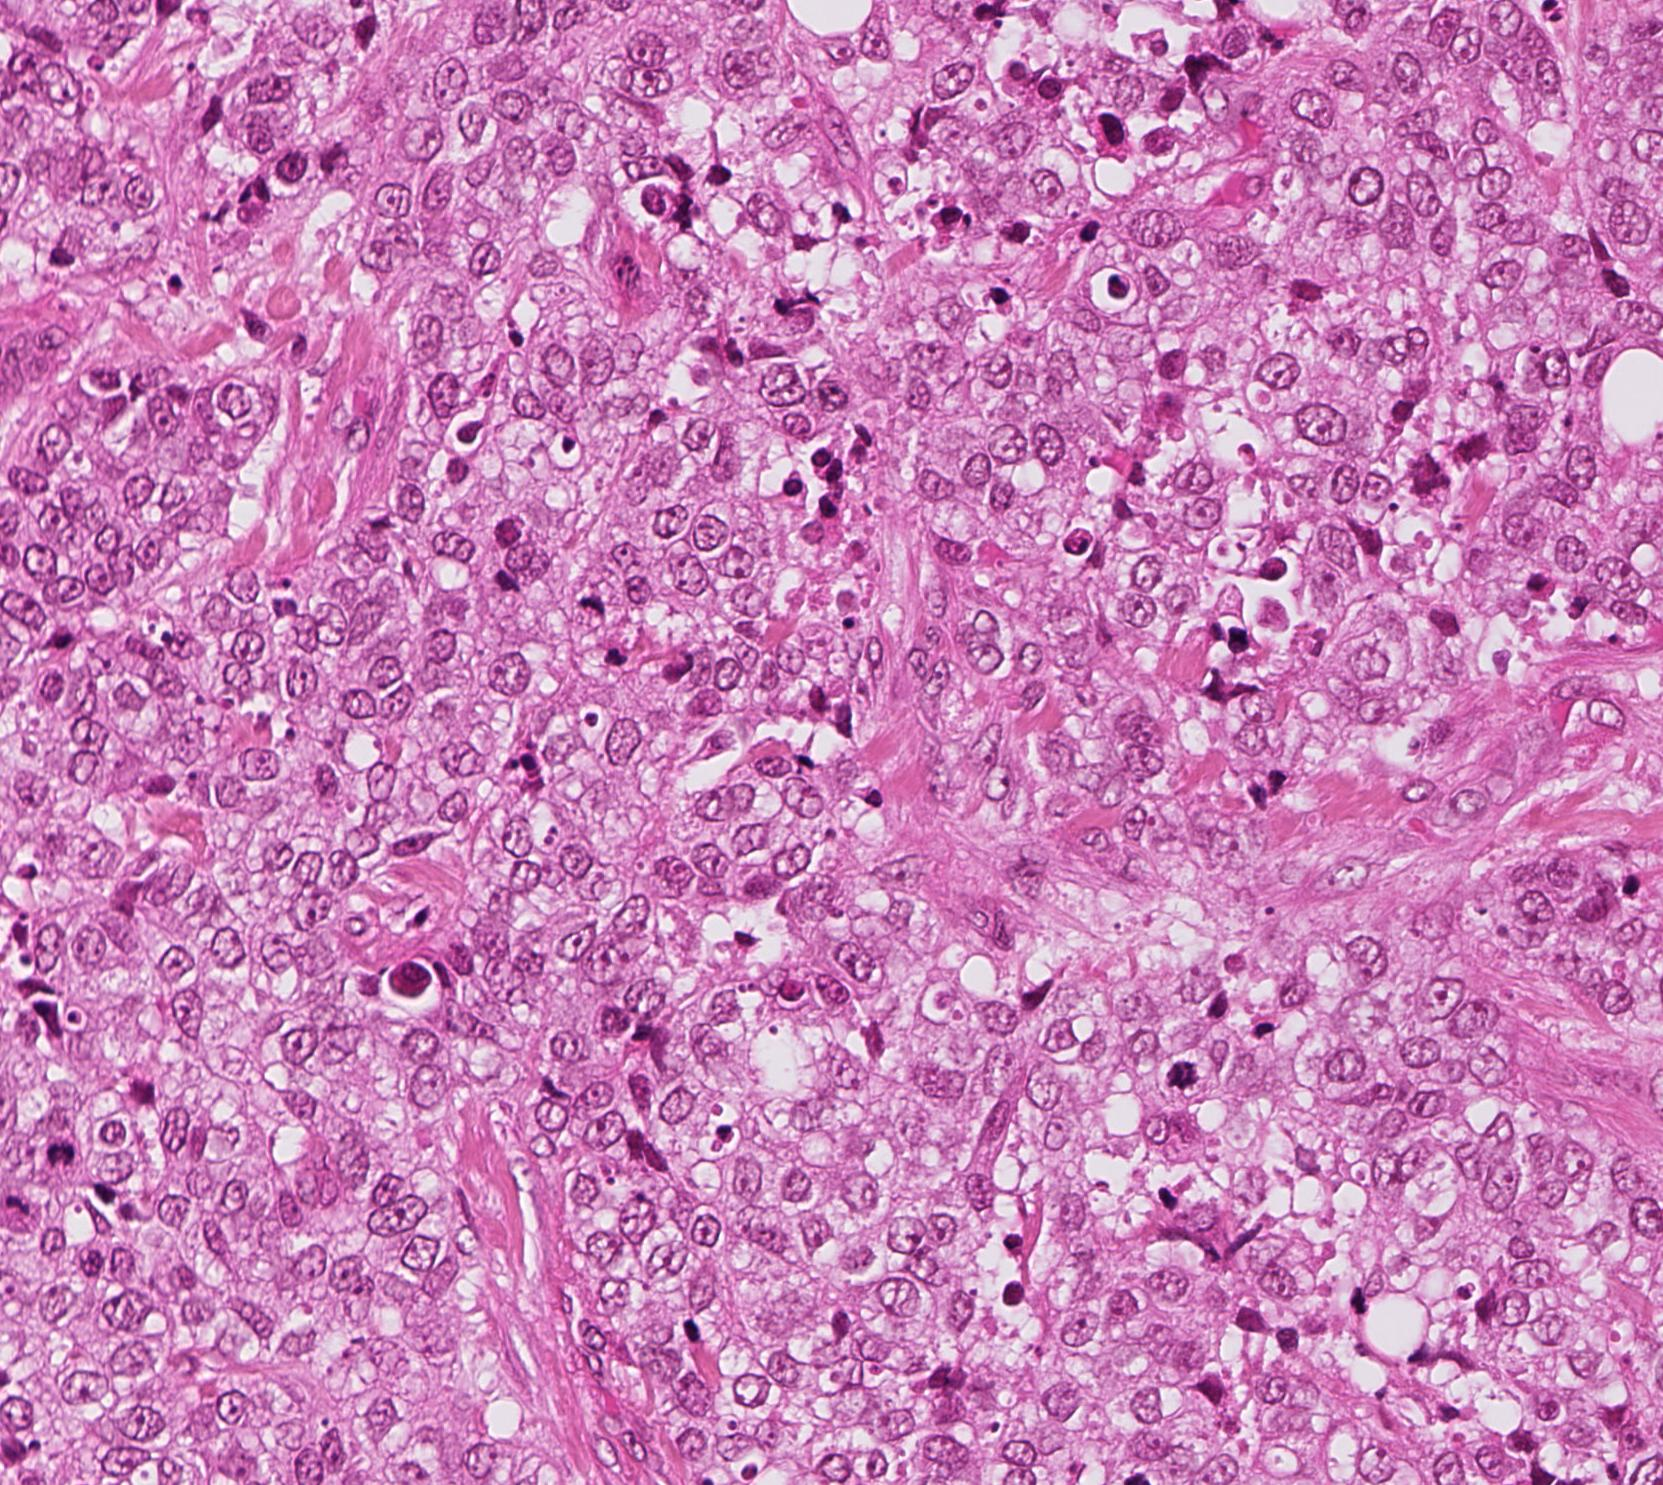mitosis: (1151, 1039, 1211, 1099)
